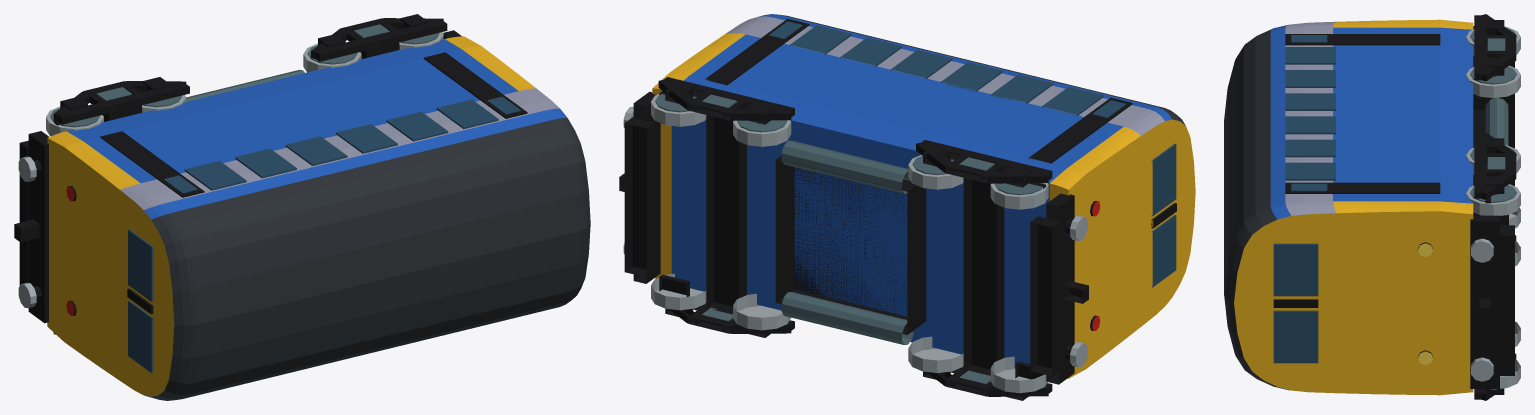
3 renders of one model, left to right at view 1: azimuth 30°, elevation 25°; view 2: azimuth 150°, elevation 25°; view 3: azimuth 270°, elevation 25°, orthographic. The views are drawn at different scales.
Visible parts, largest first — view 1: default_body, default_bogie1, default_bogie-1, default_beam-1, default_side1_-3.15_2.00_black, default_side1_2.75_2.00_black, default_screen-1-0.62, default_screen-10.62, default_buffers-1, default_side1_1.06_3.75_glass_dark, default_side1_-2.62_3.75_glass_dark, default_side1_1.98_3.75_glass_dark (+5 smaller); view 2: default_body, default_bogie-1, default_bogie1, default_tank, default_plough1, default_plough-1, default_air_tank-1, default_air_tank1, default_beam-1, default_beam1, default_side1_2.75_2.00_black, default_side1_-3.15_2.00_black (+9 smaller); view 3: default_body, default_bogie1, default_beam1, default_bogie-1, default_screen1-0.62, default_screen10.62, default_plough1, default_side1_2.75_2.00_black, default_side1_-3.15_2.00_black, default_buffers1, default_side1_0.14_3.75_glass_dark, default_side1_1.06_3.75_glass_dark (+10 smaller).
Boxes of the visible parts, <box> form: default_body: <box>47,36,590,400</box>; default_bogie1: <box>303,14,447,72</box>; default_bogie-1: <box>46,77,189,334</box>; default_beam-1: <box>28,131,48,323</box>; default_side1_-3.15_2.00_black: <box>100,131,204,197</box>; default_side1_2.75_2.00_black: <box>423,52,527,118</box>; default_screen-1-0.62: <box>128,300,153,372</box>; default_screen-10.62: <box>128,229,153,301</box>; default_buffers-1: <box>14,156,41,308</box>; default_side1_1.06_3.75_glass_dark: <box>386,111,448,141</box>; default_side1_-2.62_3.75_glass_dark: <box>184,161,246,190</box>; default_side1_1.98_3.75_glass_dark: <box>436,99,498,128</box>; default_body: <box>652,14,1195,378</box>; default_bogie-1: <box>908,140,1052,400</box>; default_bogie1: <box>651,77,794,337</box>; default_tank: <box>775,155,926,334</box>; default_plough1: <box>624,117,654,277</box>; default_plough-1: <box>1030,216,1059,376</box>; default_air_tank-1: <box>781,292,914,344</box>; default_air_tank1: <box>781,140,909,193</box>; default_beam-1: <box>1046,193,1074,384</box>; default_beam1: <box>633,91,660,283</box>; default_side1_2.75_2.00_black: <box>705,18,809,85</box>; default_side1_-3.15_2.00_black: <box>1028,97,1132,163</box>; default_body: <box>1224,19,1473,395</box>; default_bogie1: <box>1466,132,1520,400</box>; default_beam1: <box>1470,215,1499,388</box>; default_bogie-1: <box>1466,14,1520,265</box>; default_screen1-0.62: <box>1273,310,1318,363</box>; default_screen10.62: <box>1273,243,1318,296</box>; default_plough1: <box>1500,225,1514,375</box>; default_side1_2.75_2.00_black: <box>1285,182,1440,193</box>; default_side1_-3.15_2.00_black: <box>1285,34,1440,45</box>; default_buffers1: <box>1471,238,1493,381</box>; default_side1_0.14_3.75_glass_dark: <box>1285,116,1335,134</box>; default_side1_1.06_3.75_glass_dark: <box>1285,139,1335,157</box>.
Size of the model in its own units: 8.46 by 3.9 by 4.98.
